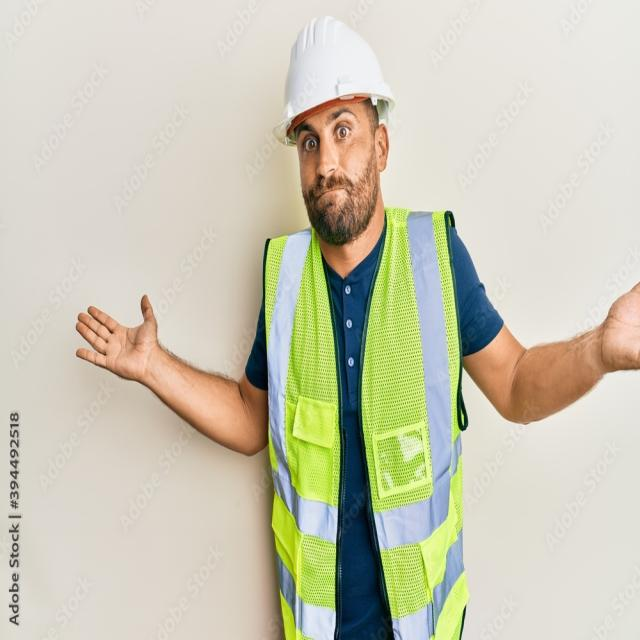goggles: (280, 110, 390, 159)
helmet: (264, 10, 404, 148)
vest: (260, 230, 470, 640)
